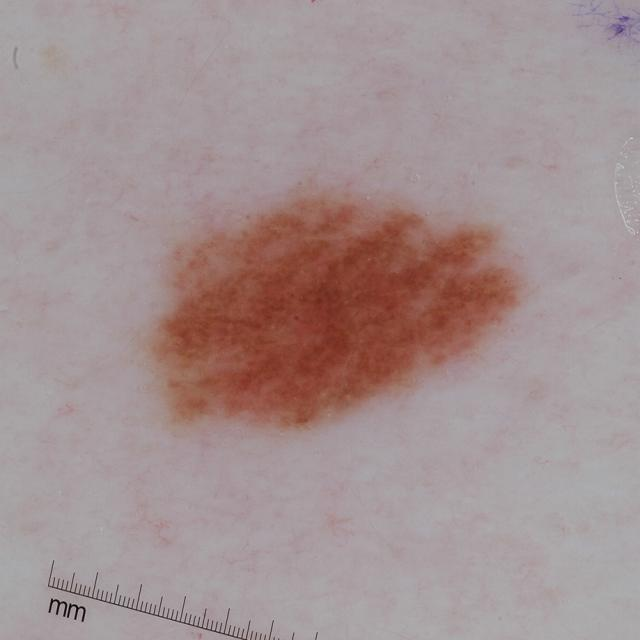Skin-Cancer Nevus: (100, 6, 560, 534)
